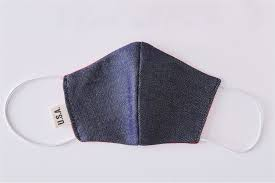cloth_mask: (4, 41, 267, 156)
